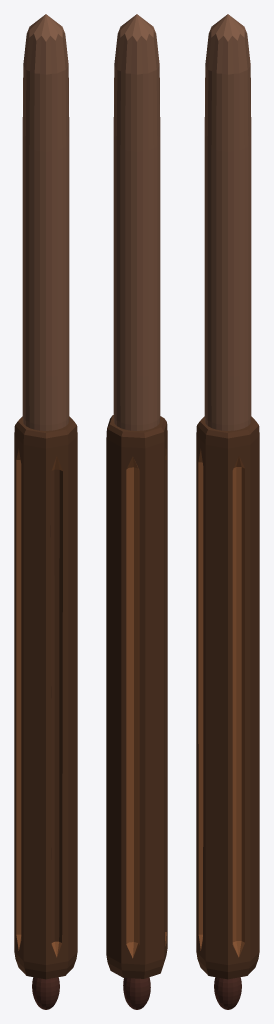
Rendered from Wand 516.glb.
3 renders of one model, left to right at view 1: azimuth 90°, elevation 25°; view 2: azimuth 150°, elevation 25°; view 3: azimuth 270°, elevation 25°, orthographic.
Visible parts, largest first — view 1: GeneratedWand; view 2: GeneratedWand; view 3: GeneratedWand.
Part boxes in pixels (<box>): GeneratedWand: <box>14,14,77,1009</box>; GeneratedWand: <box>106,14,167,1009</box>; GeneratedWand: <box>196,14,259,1009</box>.
Bounding box in the file's own units: 0.0289 × 0.5016 × 0.0289.
